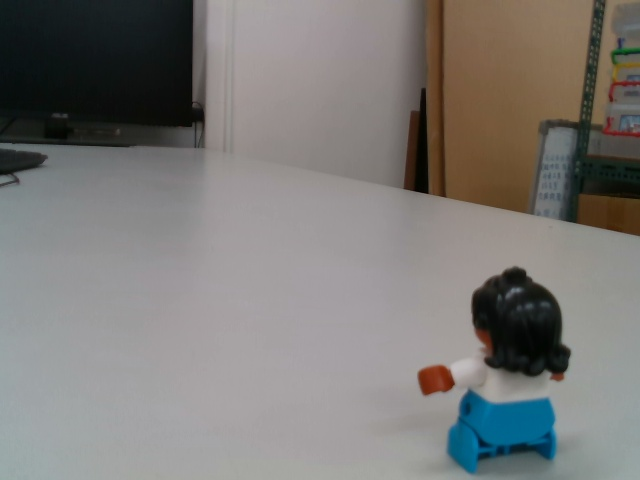people: (414, 264, 576, 475)
